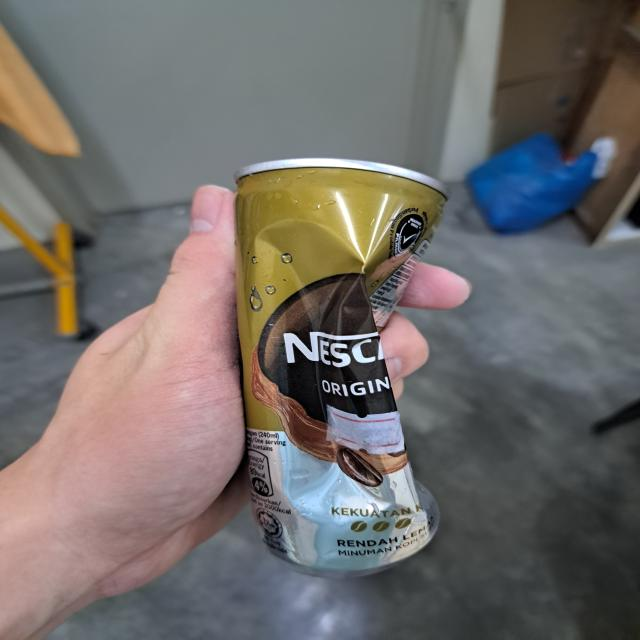can: (231, 158, 454, 572)
